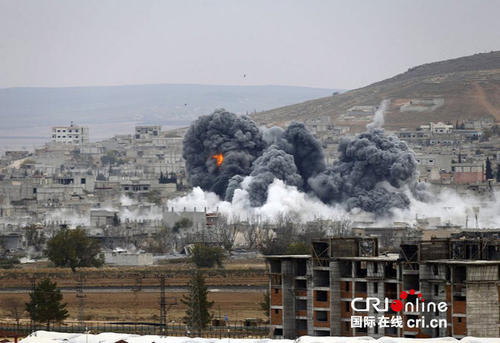smoke: (193, 109, 410, 224)
